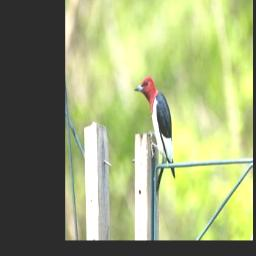Woodpecker: (134, 76, 175, 179)
